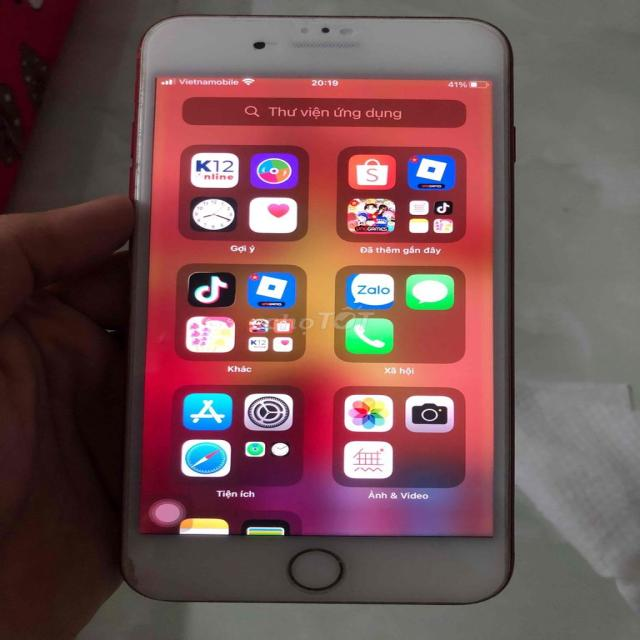gen_7_8: (107, 8, 537, 614)
physical_damage: (116, 549, 148, 586)
scratch: (204, 12, 495, 30), (125, 34, 147, 203)
